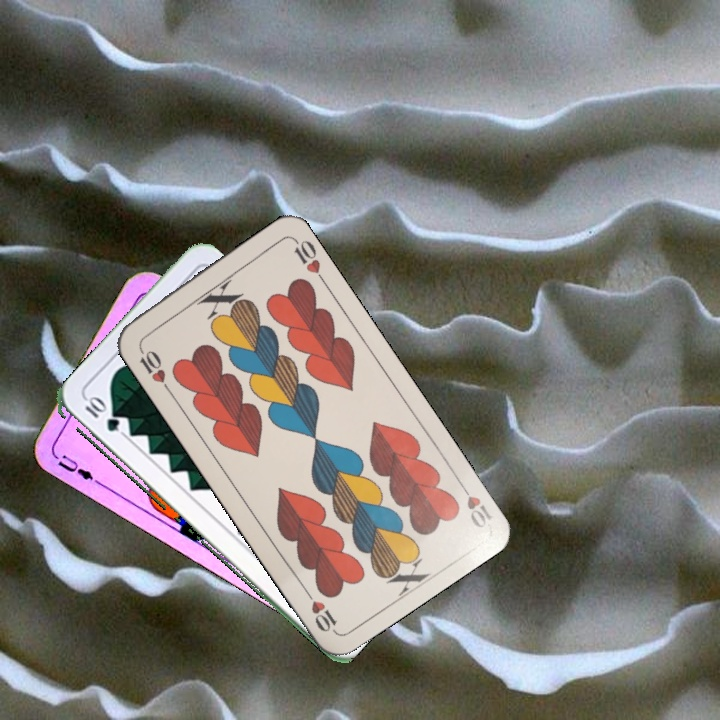EU: (48, 449, 102, 487)
G10: (81, 394, 122, 435)
H10: (453, 475, 495, 531), (134, 341, 173, 394)
